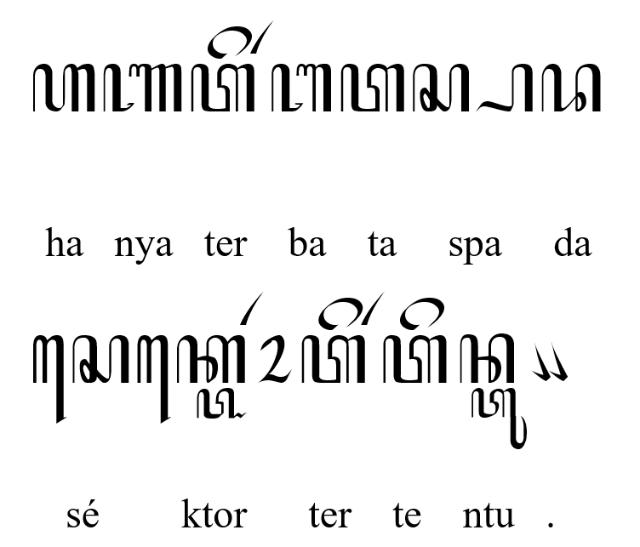_p: (474, 63, 534, 113)
_r1: (238, 291, 264, 326), (360, 291, 386, 326), (250, 20, 274, 55)
_t: (196, 388, 248, 420)
b: (270, 63, 332, 113)
d: (540, 61, 602, 113)
e: (207, 24, 253, 60), (318, 296, 364, 331), (399, 298, 445, 330)
e1: (136, 334, 172, 424), (32, 334, 66, 424)
h: (32, 63, 96, 113)
k: (176, 334, 246, 384)
kom: (530, 340, 550, 382), (548, 340, 568, 382)
n: (459, 333, 515, 383)
ny1: (104, 64, 182, 113)
o: (258, 334, 292, 384)
s: (411, 62, 471, 114), (71, 334, 129, 384)
t: (190, 62, 256, 114), (300, 334, 366, 384), (382, 335, 448, 385), (340, 64, 404, 113)
tu: (469, 388, 526, 450)
